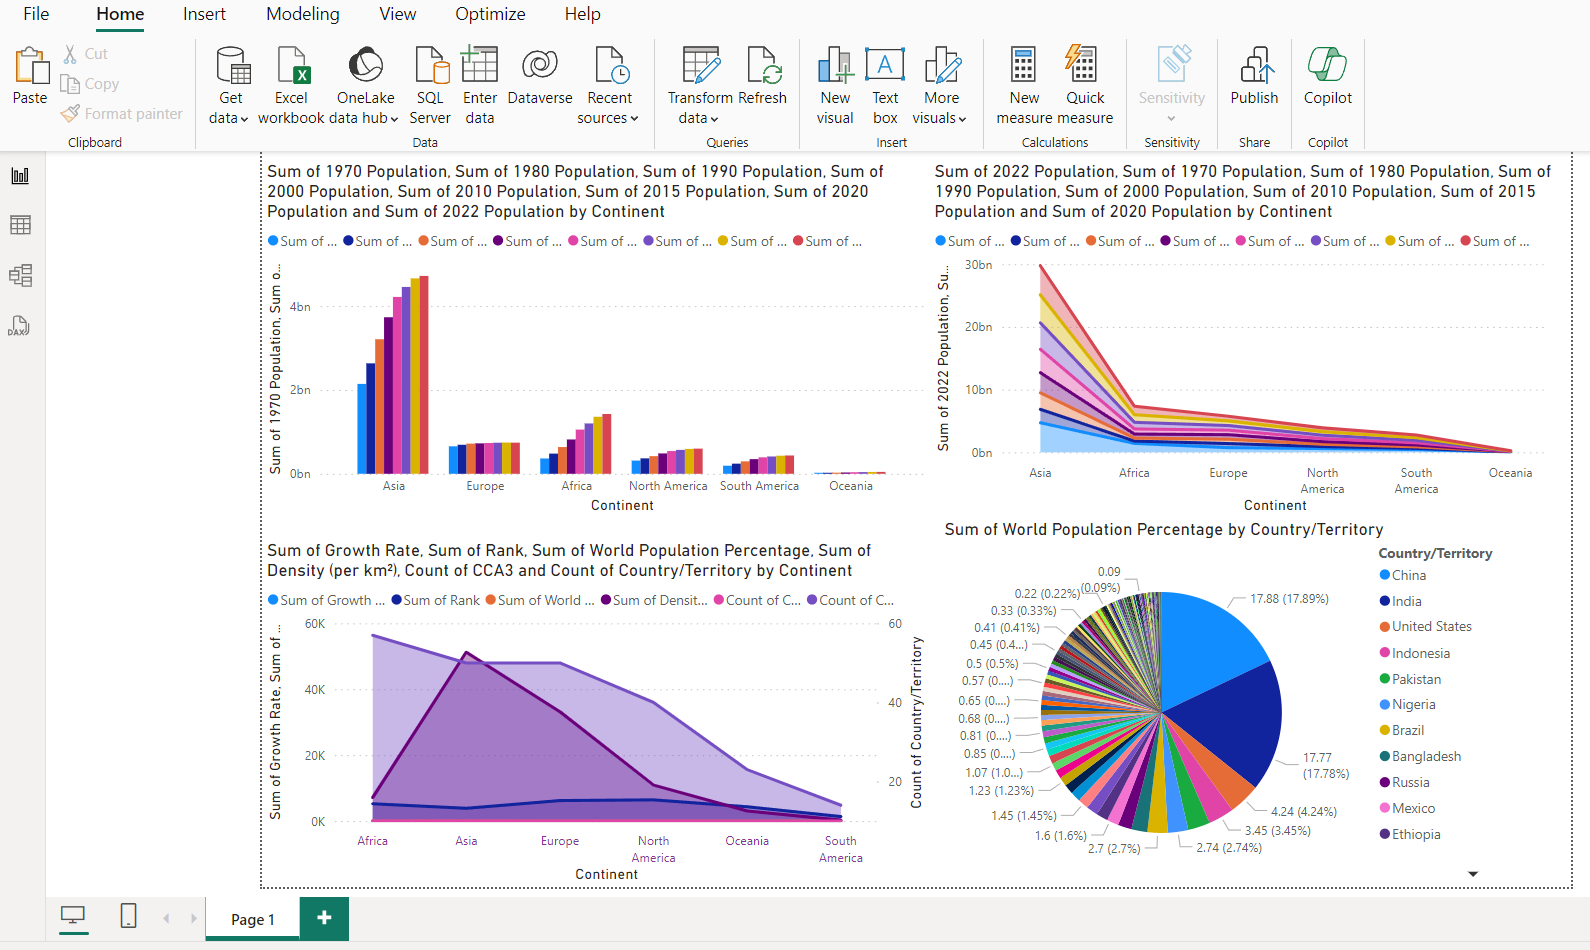

The dashboard page shown, as its layout file describes it:
{"tool":"powerbi","page":{"name":"Page 1","canvas":[1280,720],"ordinal":0},"visuals":[{"type":"clusteredColumnChart","fields":{"Y":["Sum(world_population.1970 Population)","Sum(world_population.1980 Population)","Sum(world_population.1990 Population)","Sum(world_population.2000 Population)","Sum(world_population.2010 Population)","Sum(world_population.2015 Population)","Sum(world_population.2020 Population)","Sum(world_population.2022 Population)"],"Category":["world_population.Continent"]},"box":[0,9.8,653,349.7],"z":0},{"type":"stackedAreaChart","fields":{"Y":["Sum(world_population.2022 Population)","Sum(world_population.1970 Population)","Sum(world_population.1980 Population)","Sum(world_population.1990 Population)","Sum(world_population.2000 Population)","Sum(world_population.2010 Population)","Sum(world_population.2015 Population)","Sum(world_population.2020 Population)"],"Category":["world_population.Continent"]},"box":[653,9.8,617.5,349.7],"z":1000},{"type":"areaChart","fields":{"Y":["Sum(world_population.Growth Rate)","Sum(world_population.Rank)","Sum(world_population.World Population Percentage)","Sum(world_population.Density (per km²))","CountNonNull(world_population.CCA3)"],"Y2":["CountNonNull(world_population.Country/Territory)"],"Category":["world_population.Continent"]},"box":[0,380.3,653,339.9],"z":2000},{"type":"pieChart","fields":{"Category":["world_population.Country/Territory"],"Y":["Sum(world_population.World Population Percentage)"]},"box":[662.8,359.5,617.5,360.7],"z":3000}]}

Visuals, with their boxes on the page's 1280x720 design canvas (x1, y1, x2, y2). These are canvas units, not pixel positions in the 1590x950 screenshot, which may show the page scaled, cropped or inside an application window:
clusteredColumnChart - Sum(world_population.1970 Population) x Sum(world_population.1980 Population): [x1=0, y1=10, x2=653, y2=360]
stackedAreaChart - Sum(world_population.2022 Population) x Sum(world_population.1970 Population): [x1=653, y1=10, x2=1270, y2=360]
areaChart - Sum(world_population.Growth Rate) x Sum(world_population.Rank): [x1=0, y1=380, x2=653, y2=720]
pieChart - world_population.Country/Territory x Sum(world_population.World Population Percentage): [x1=663, y1=360, x2=1280, y2=720]
